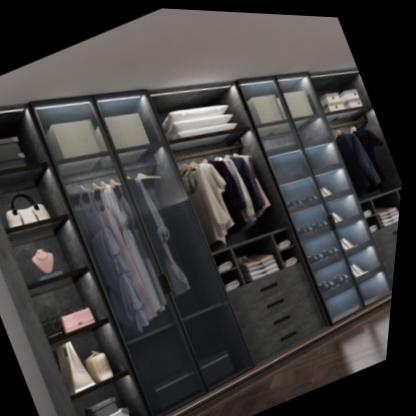Transparent Closet: (0, 62, 405, 416)
